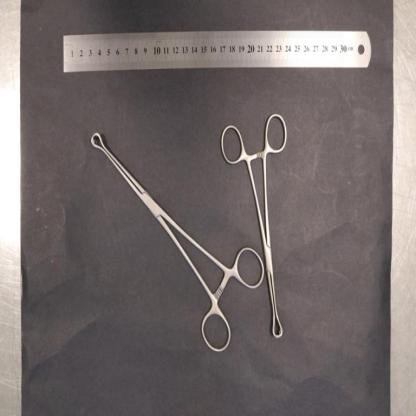8 Babcock Tissue Forceps: (91, 132, 264, 354)
Babcock Tissue Forceps: (222, 116, 288, 338)
